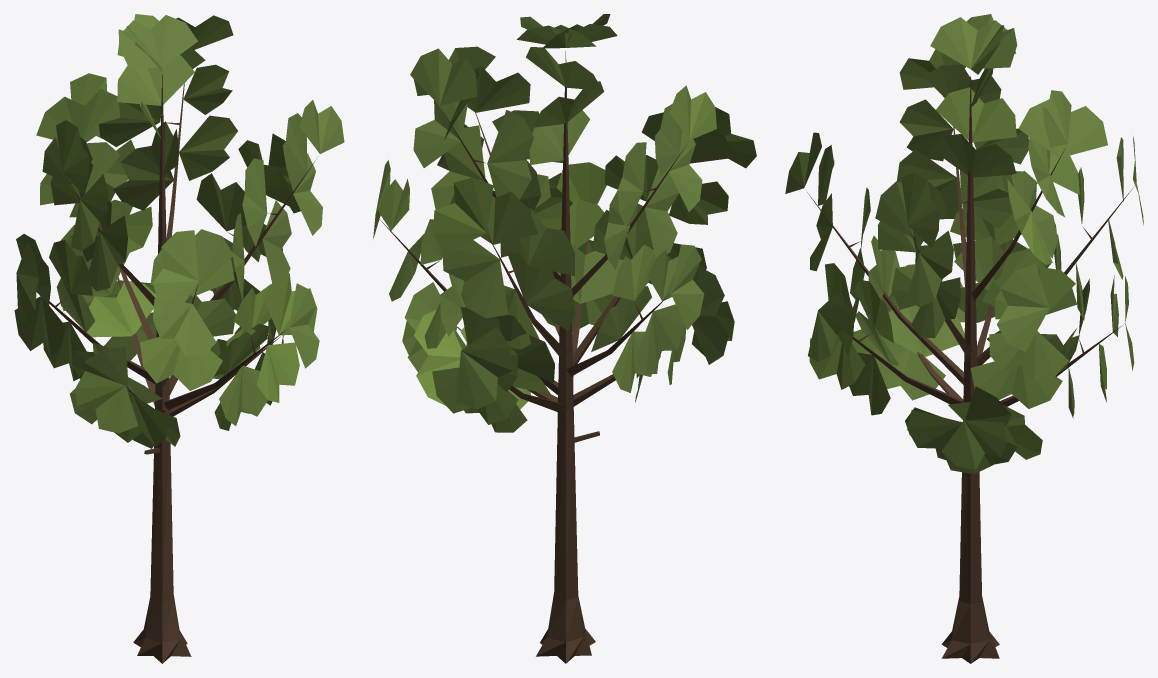
The model's file is ginkgo-tree-baa895.glb.
3 views of the same model, side by side, from view 1: azimuth 30°, elevation 25°; view 2: azimuth 150°, elevation 25°; view 3: azimuth 270°, elevation 25° (orthographic). The views are drawn at different scales.
Parts seen in each view (by area): view 1: ginkgo-tree-baa895; view 2: ginkgo-tree-baa895; view 3: ginkgo-tree-baa895.
Boxes of the visible parts, box(x1,y1,x2,y2) form: ginkgo-tree-baa895: box(14, 14, 344, 663); ginkgo-tree-baa895: box(373, 14, 756, 663); ginkgo-tree-baa895: box(785, 14, 1143, 663).
Size of the model in its own units: 5.85 by 11.74 by 6.14.
